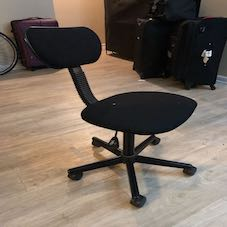chair: (32, 15, 205, 205)
